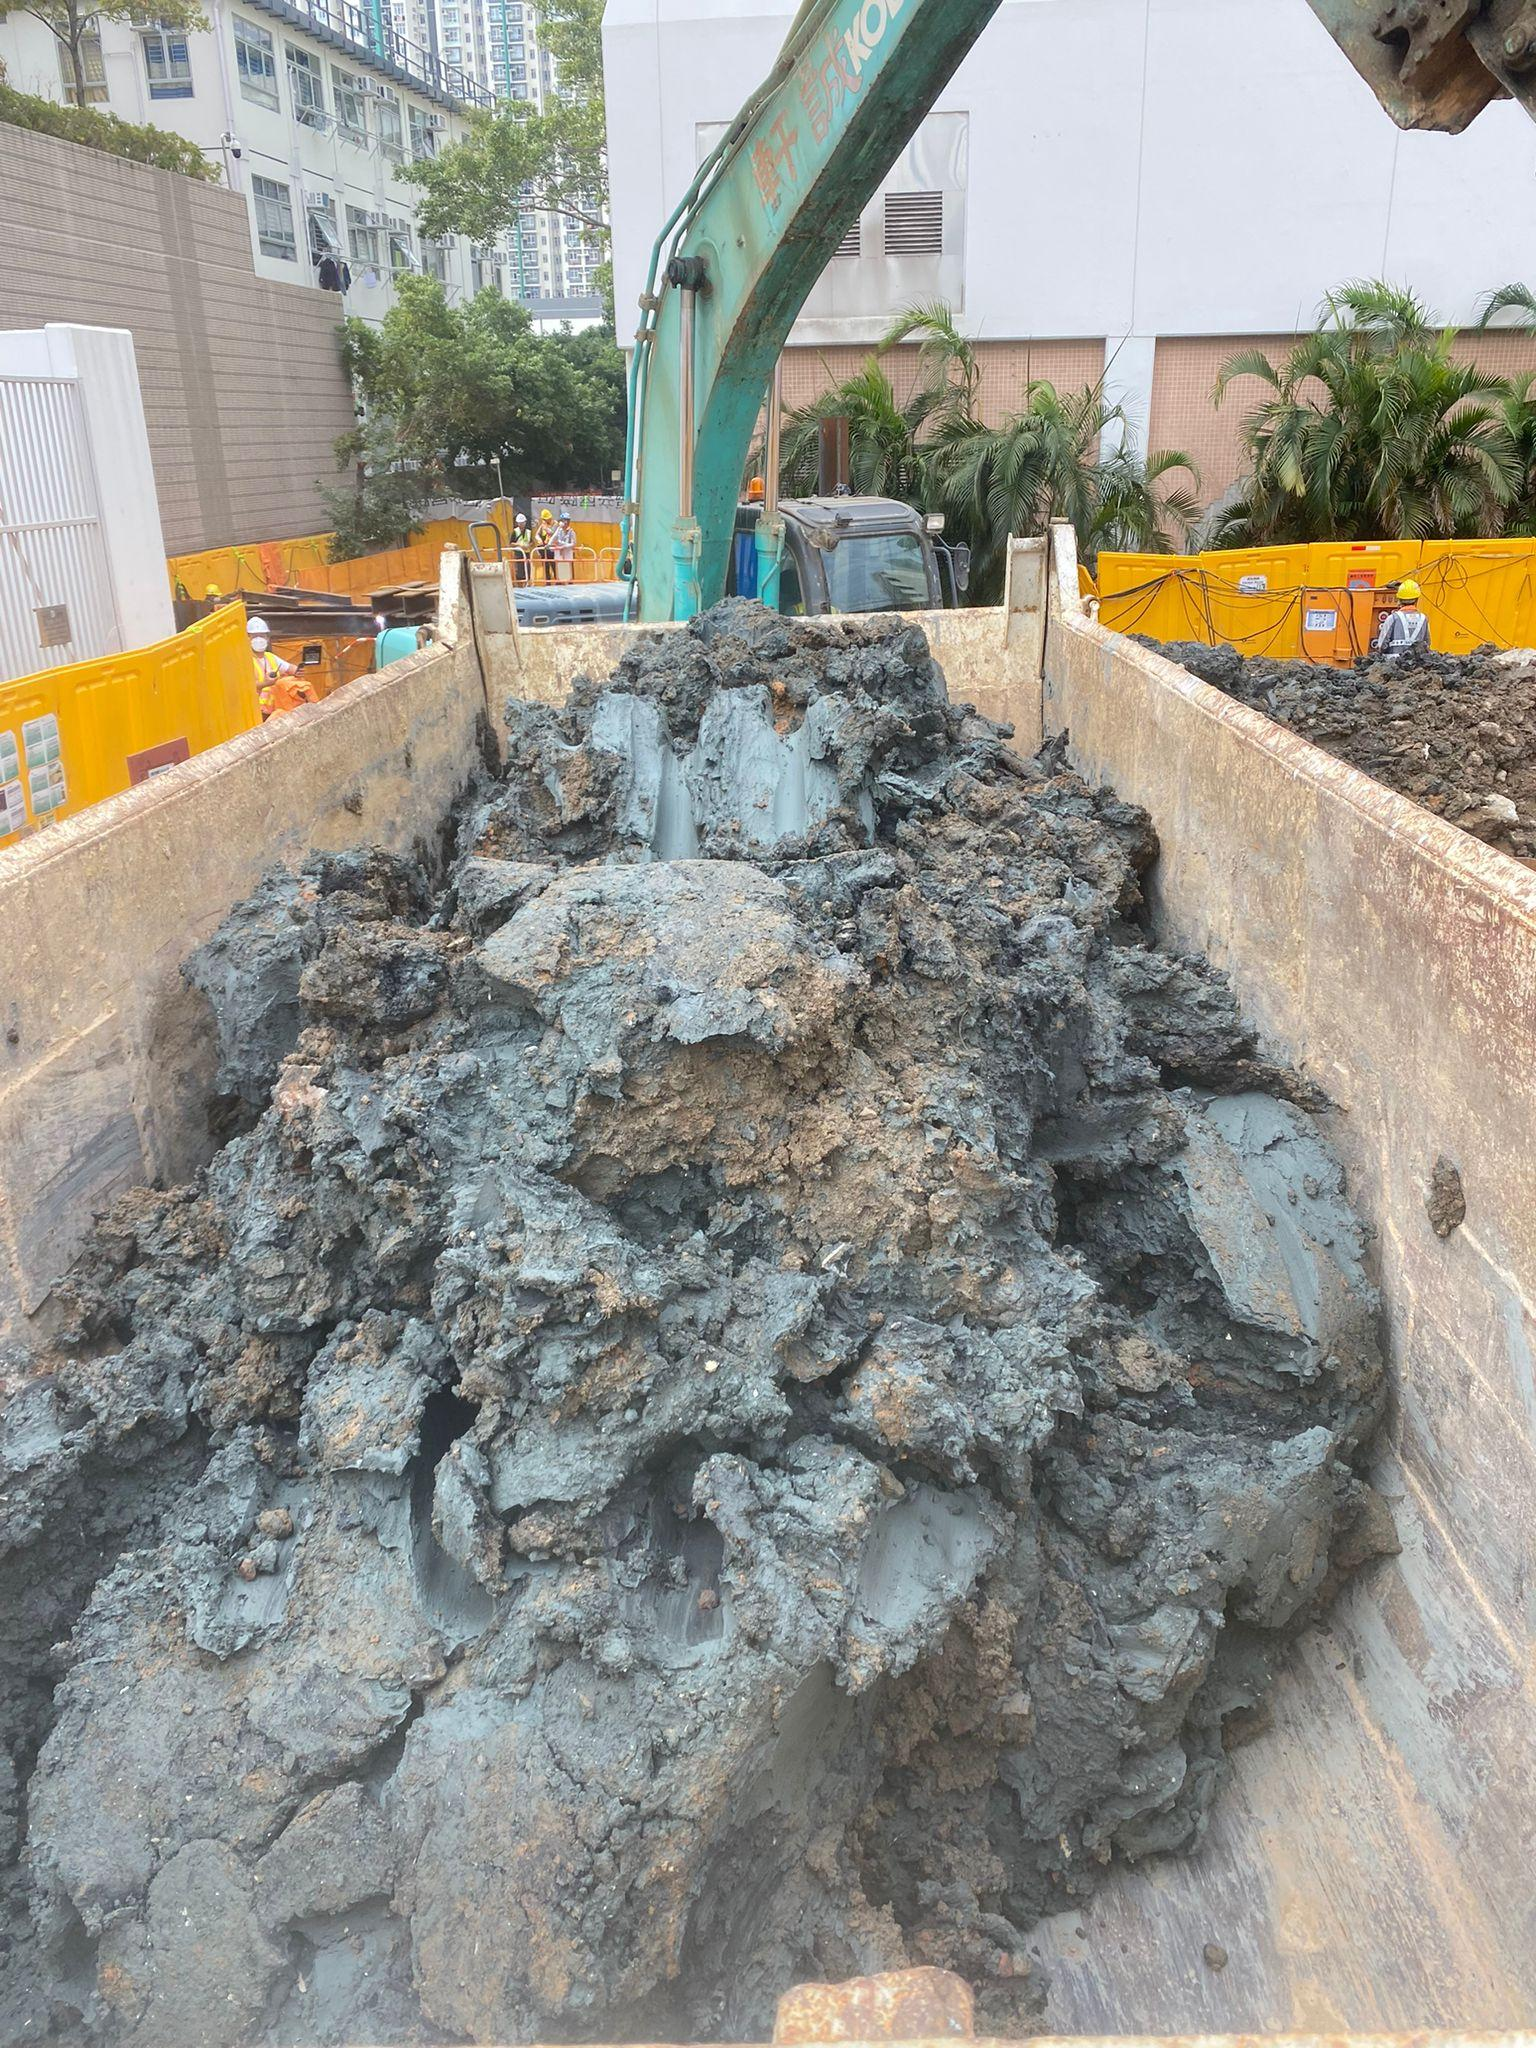wet: (47, 666, 1357, 1983)
